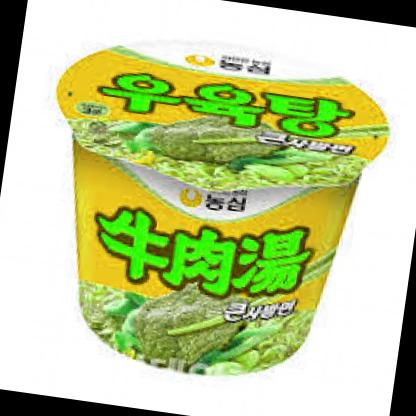Ramen: (17, 16, 411, 398)
